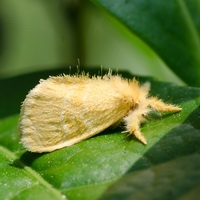insect: (19, 71, 181, 152)
